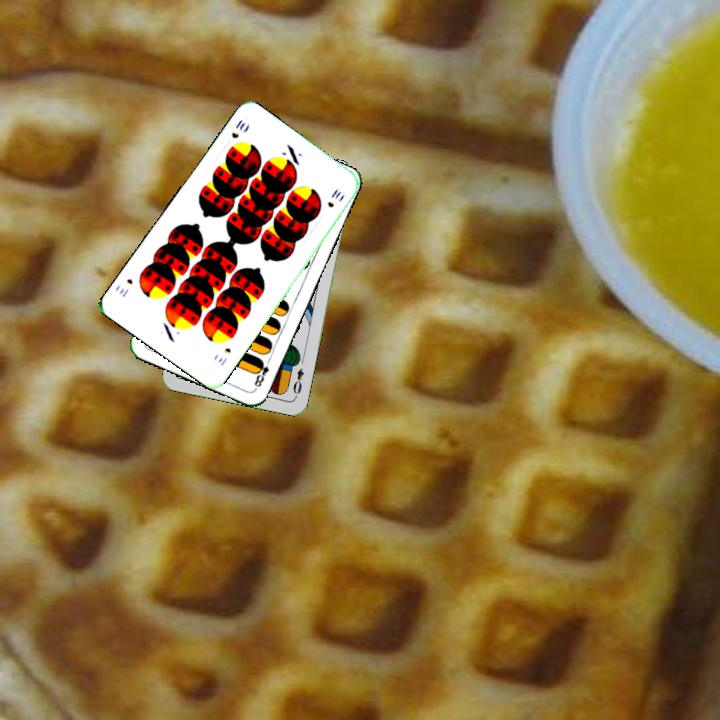E8: (250, 354, 273, 392)
EO: (289, 364, 306, 400)
S10: (227, 115, 248, 141), (214, 343, 234, 369)
